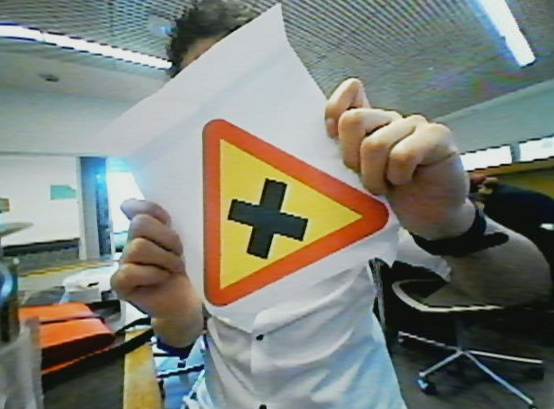junction: (199, 117, 391, 306)
